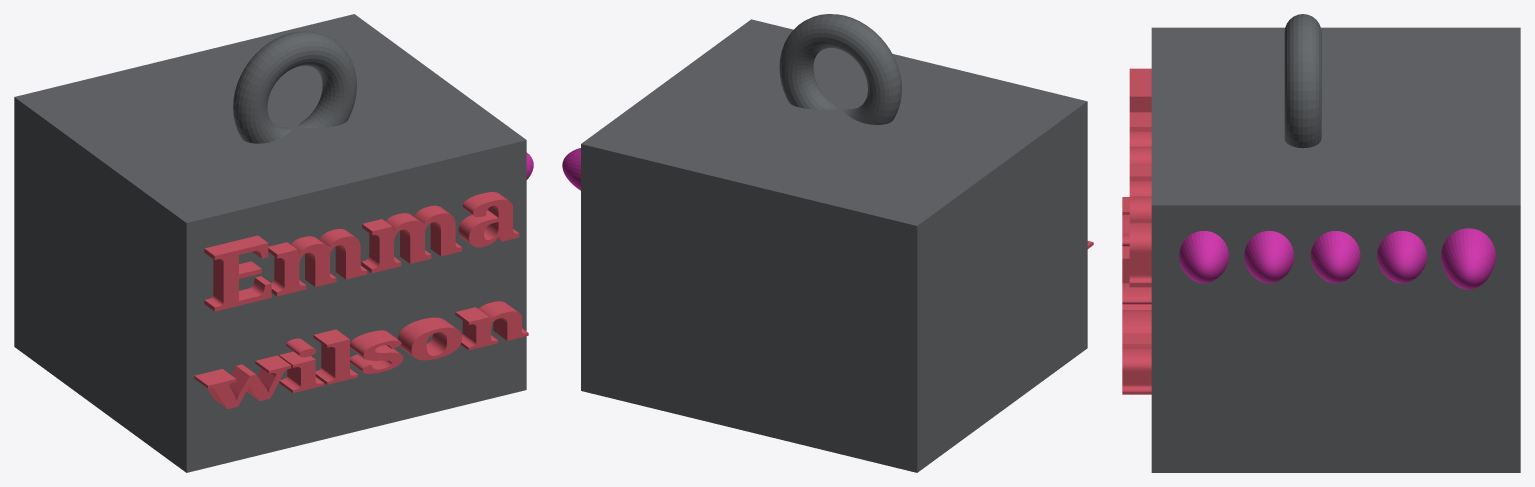
File: Mighty Kup-Kieran.glb
3 renders of one model, left to right at view 1: azimuth 30°, elevation 25°; view 2: azimuth 150°, elevation 25°; view 3: azimuth 270°, elevation 25°, orthographic. The views are drawn at different scales.
Parts seen in each view (by area): view 1: Mesh_Mesh_head_geo.001_lambert2SG.001; view 2: Mesh_Mesh_head_geo.001_lambert2SG.001; view 3: Mesh_Mesh_head_geo.001_lambert2SG.001.
Boxes of the visible parts, x1,y1,x2,y2 form: Mesh_Mesh_head_geo.001_lambert2SG.001: [14, 14, 533, 472]; Mesh_Mesh_head_geo.001_lambert2SG.001: [562, 14, 1093, 472]; Mesh_Mesh_head_geo.001_lambert2SG.001: [1122, 14, 1520, 472].
Bounding box in the file's own units: 0.064 × 0.055 × 0.054.
